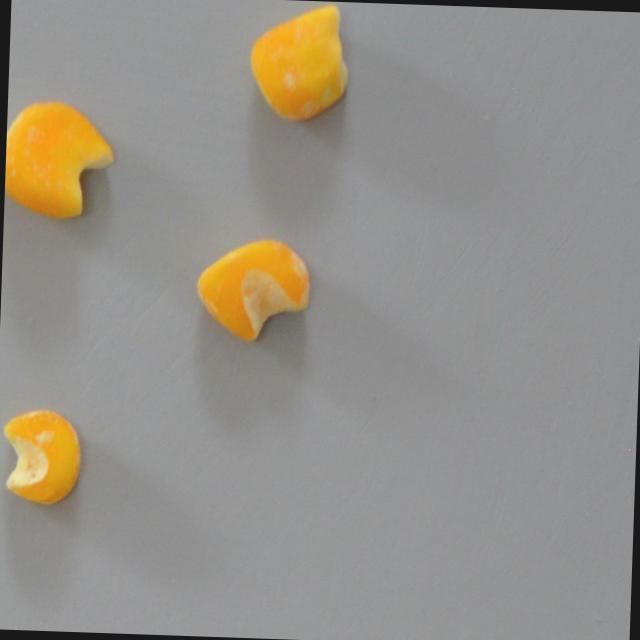pelicula: (193, 235, 313, 344), (246, 1, 350, 124), (4, 101, 111, 216), (0, 408, 82, 506)
